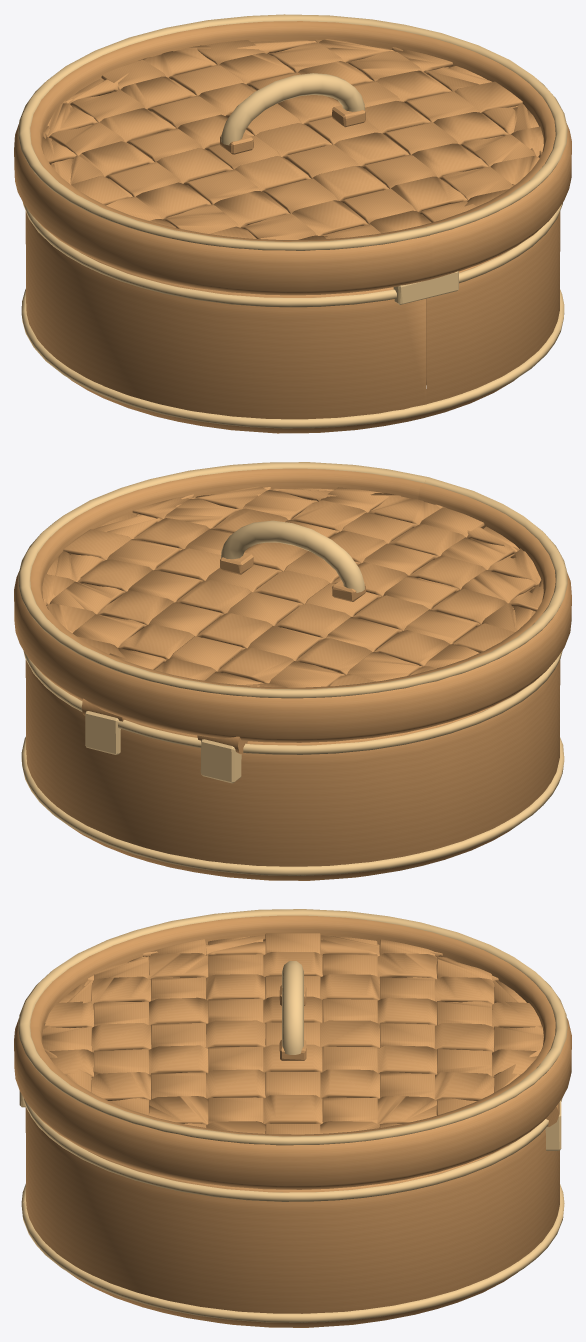
The model's file is bamboo-steamer-shelf.glb.
The picture shows the model from 3 angles, top to bottom: view 1: azimuth 30°, elevation 25°; view 2: azimuth 150°, elevation 25°; view 3: azimuth 270°, elevation 25°; orthographic projection.
Visible parts, largest first — view 1: Shelf steamer; view 2: Shelf steamer; view 3: Shelf steamer.
Part boxes in pixels (x1,y1,x2,y2): Shelf steamer: (14,14,571,433); Shelf steamer: (14,462,571,880); Shelf steamer: (14,909,571,1327).
Size of the model in its own units: 1.34 by 0.6749 by 1.34.
Materials: 3 (1 with a texture image).
